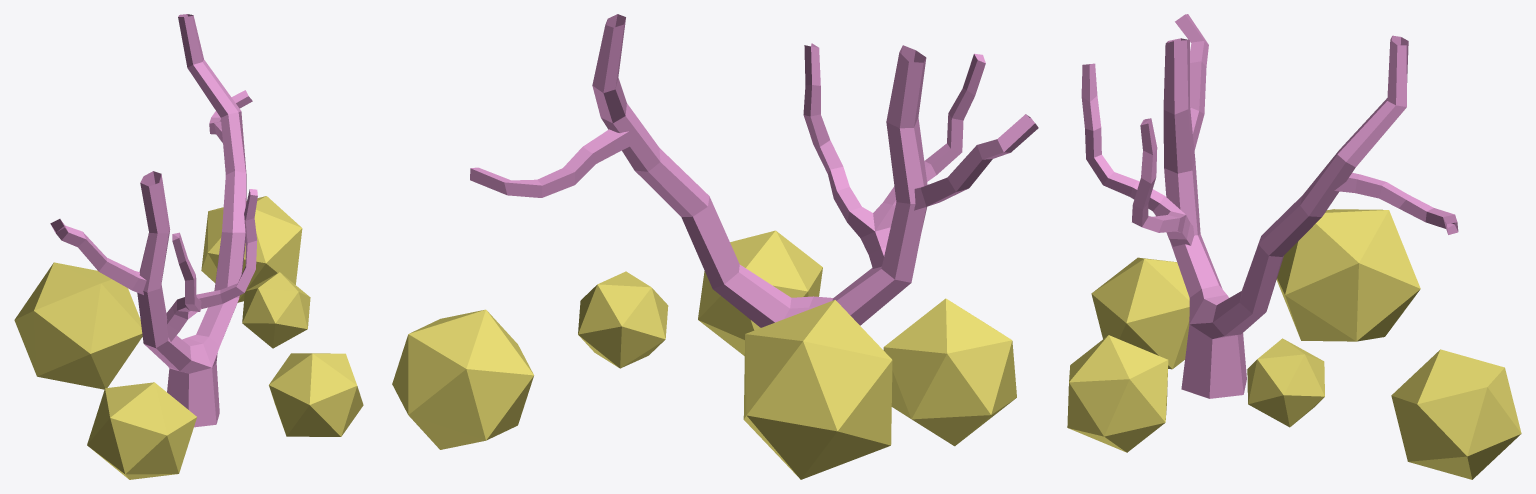
File: tree_Dead.fbx
The picture shows the model from 3 angles, left to right: view 1: azimuth 30°, elevation 25°; view 2: azimuth 150°, elevation 25°; view 3: azimuth 270°, elevation 25°; orthographic projection. The views are drawn at different scales.
Visible parts, largest first — view 1: Tree_lp_11.001, Tree_lp_11; view 2: Tree_lp_11.001, Tree_lp_11; view 3: Tree_lp_11.001, Tree_lp_11.
Boxes of the visible parts, x1=… form: Tree_lp_11.001: x1=14, y1=196, x2=363, y2=479; Tree_lp_11: x1=50, y1=14, x2=257, y2=427; Tree_lp_11.001: x1=392, y1=230, x2=1016, y2=479; Tree_lp_11: x1=470, y1=14, x2=1038, y2=327; Tree_lp_11.001: x1=1067, y1=209, x2=1521, y2=479; Tree_lp_11: x1=1081, y1=14, x2=1458, y2=398.
Size of the model in its own units: 2118 by 1978 by 1942.
